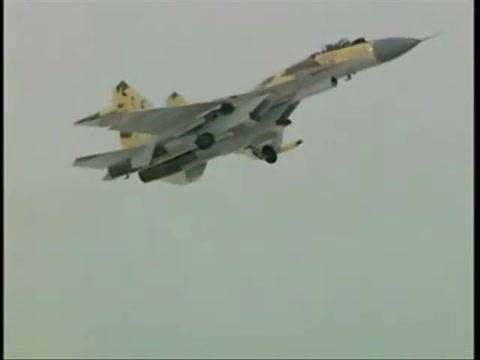aeroplane: (74, 32, 443, 187)
